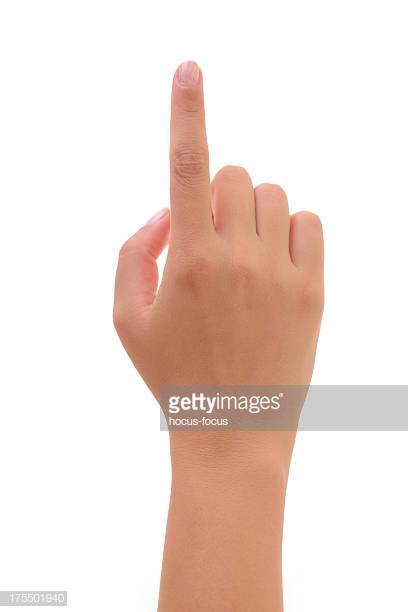move: (112, 59, 315, 429)
